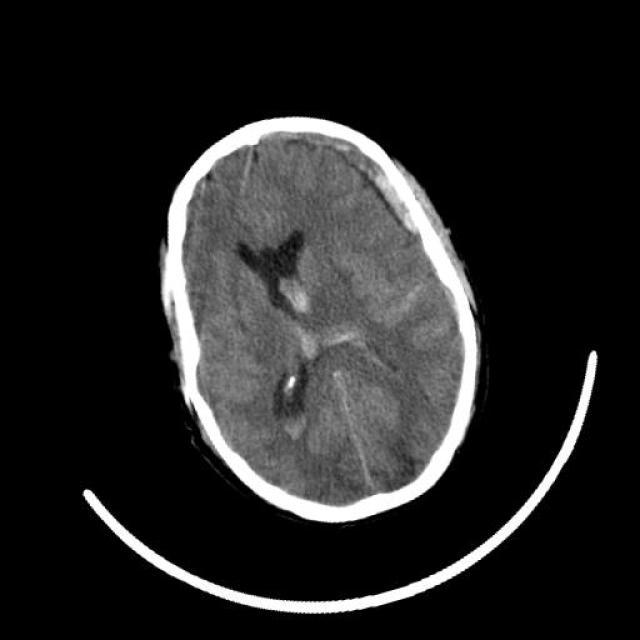Intraventricular: (260, 367, 324, 461), (262, 253, 326, 342)
Subarachnoid: (330, 307, 400, 394), (372, 271, 452, 327)
Subdural: (278, 89, 441, 275)
